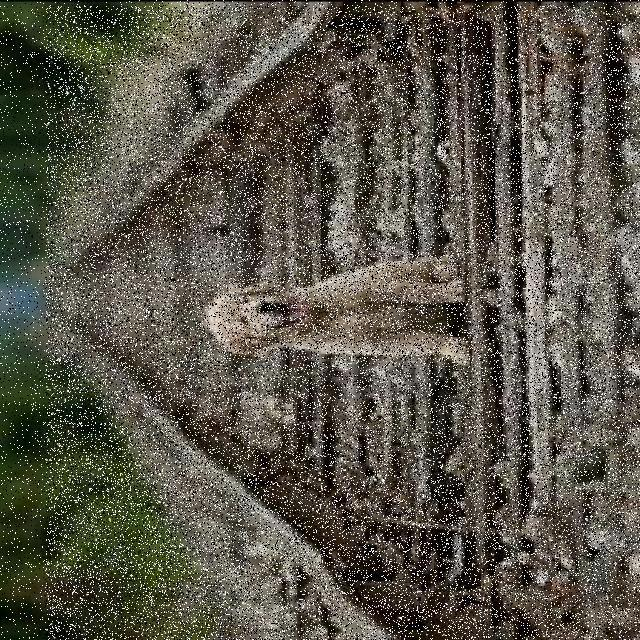danger: (205, 251, 472, 372)
rail: (46, 6, 640, 640)
